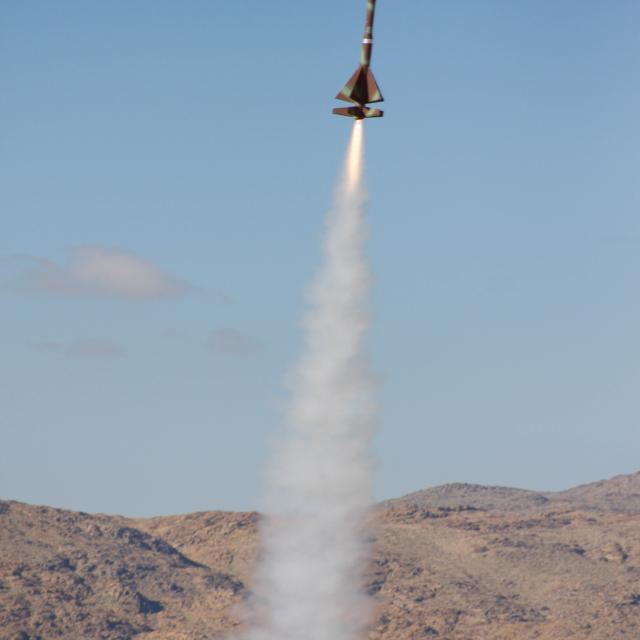Rocket: (331, 0, 385, 120)
